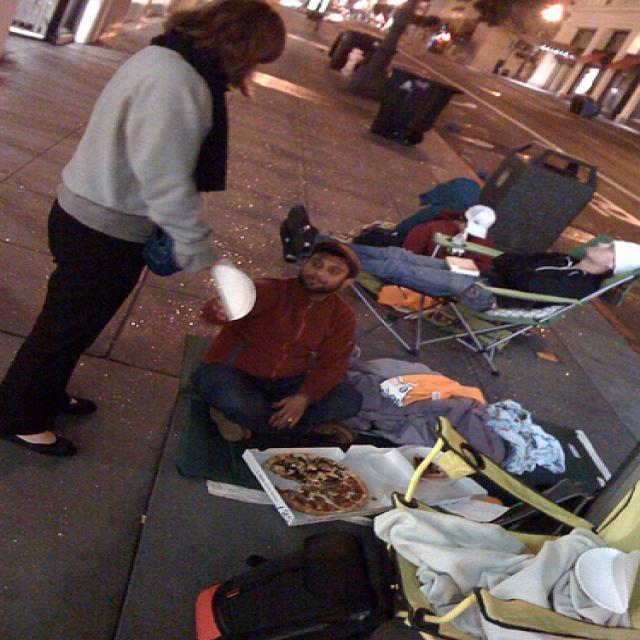fire_hydrant: (339, 46, 364, 77)
